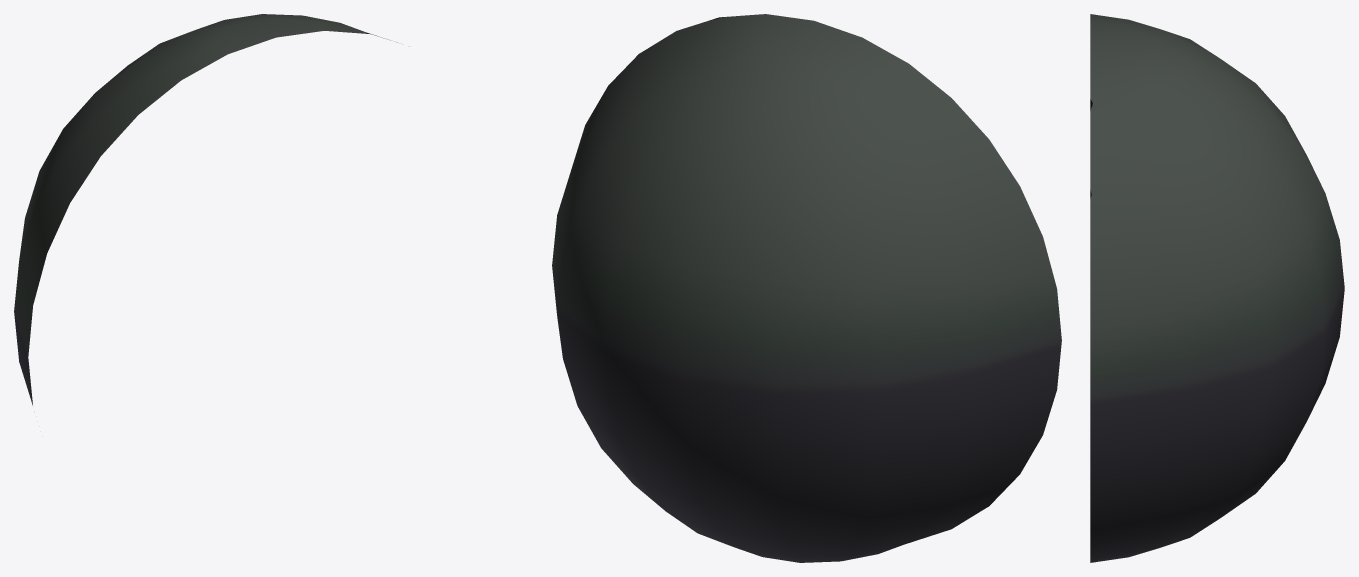
The model's file is stg1_gloomsky.gltf.
3 views of the same model, side by side, from view 1: azimuth 30°, elevation 25°; view 2: azimuth 150°, elevation 25°; view 3: azimuth 270°, elevation 25° (orthographic). The views are drawn at different scales.
Visible parts, largest first — view 1: gloomsky_GEO; view 2: gloomsky_GEO; view 3: gloomsky_GEO.
Part boxes in pixels (left/top/right/bottom): gloomsky_GEO: left=14, top=14, right=397, bottom=405; gloomsky_GEO: left=552, top=14, right=1061, bottom=562; gloomsky_GEO: left=1090, top=14, right=1344, bottom=562.
Bounding box in the file's own units: 13910 × 13910 × 6446.
Materials: 1 (1 with a texture image).
